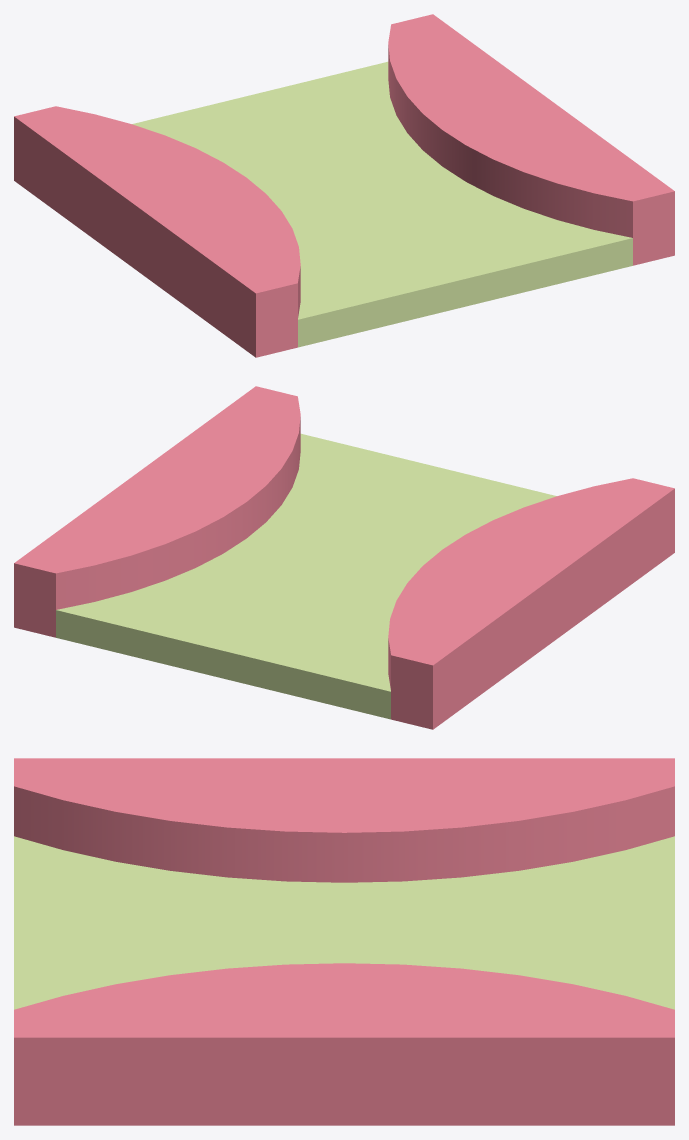
File: narrowRound.fbx
The picture shows the model from 3 angles, top to bottom: view 1: azimuth 30°, elevation 25°; view 2: azimuth 150°, elevation 25°; view 3: azimuth 270°, elevation 25°; orthographic projection. The views are drawn at different scales.
Visible parts, largest first — view 1: narrowRound; view 2: narrowRound; view 3: narrowRound.
Boxes of the visible parts, x1,y1,x2,y2 form: narrowRound: (14, 14, 674, 357); narrowRound: (14, 386, 674, 729); narrowRound: (14, 758, 674, 1125).
Bounding box in the file's own units: 99.99 × 14.67 × 99.99.
